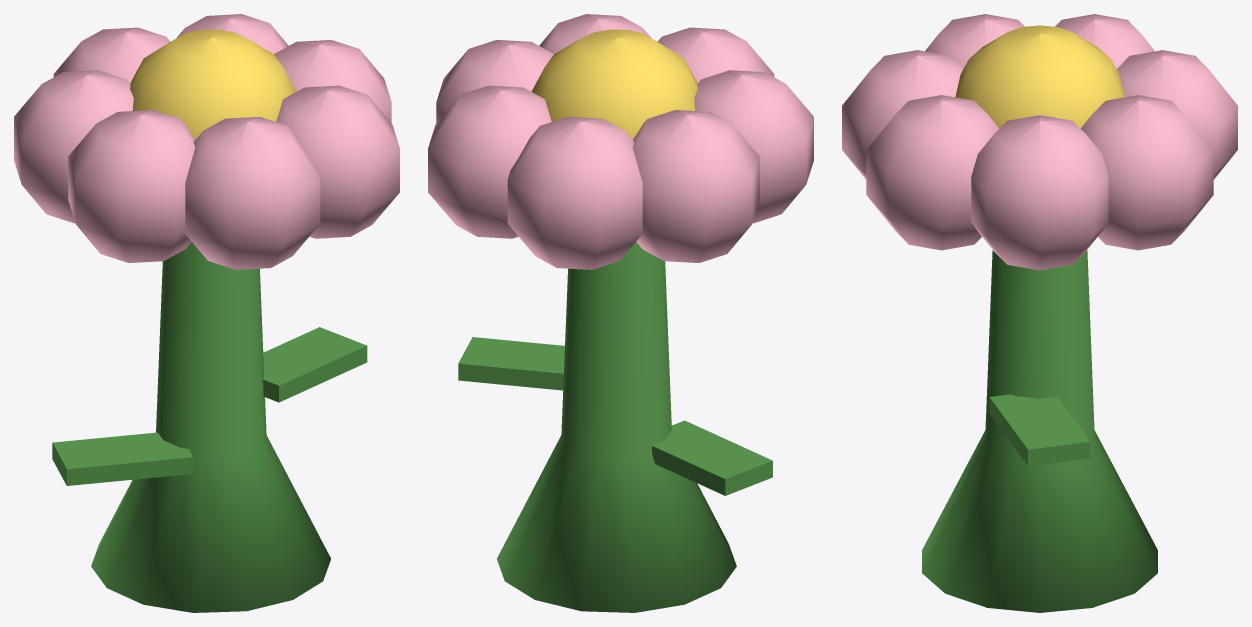
The model's file is dawnpetal_mender.obj.
3 views of the same model, side by side, from view 1: azimuth 30°, elevation 25°; view 2: azimuth 150°, elevation 25°; view 3: azimuth 270°, elevation 25° (orthographic).
Size of the model in its own units: 0.8366 by 1.25 by 0.8498.
